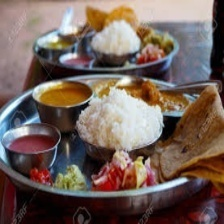rice: (90, 17, 143, 59)
